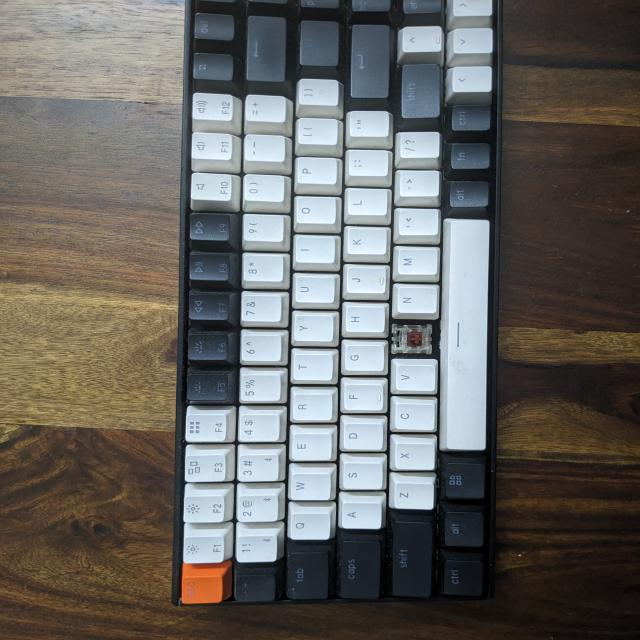C: (388, 320, 435, 358)
